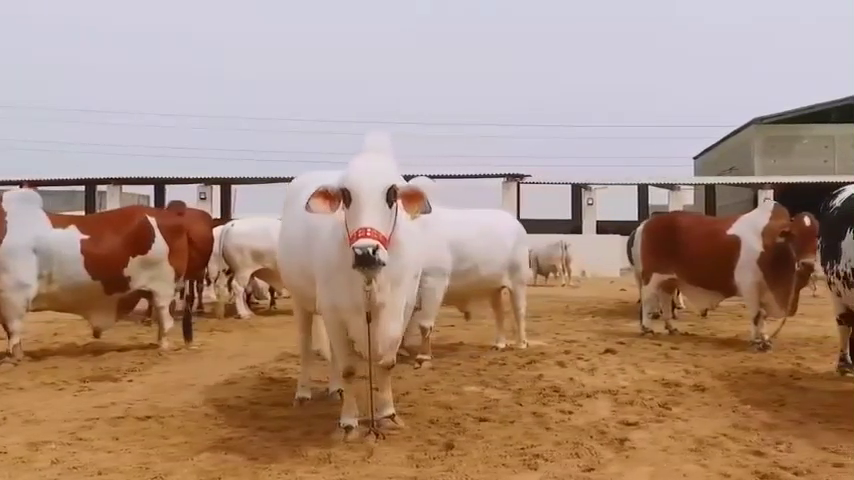bo: (283, 121, 418, 440), (627, 180, 818, 372), (3, 183, 200, 363), (413, 193, 535, 357), (213, 214, 284, 321), (526, 221, 577, 287)
